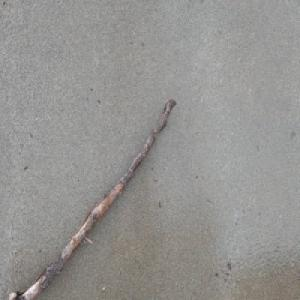Wood: (8, 96, 177, 300)
